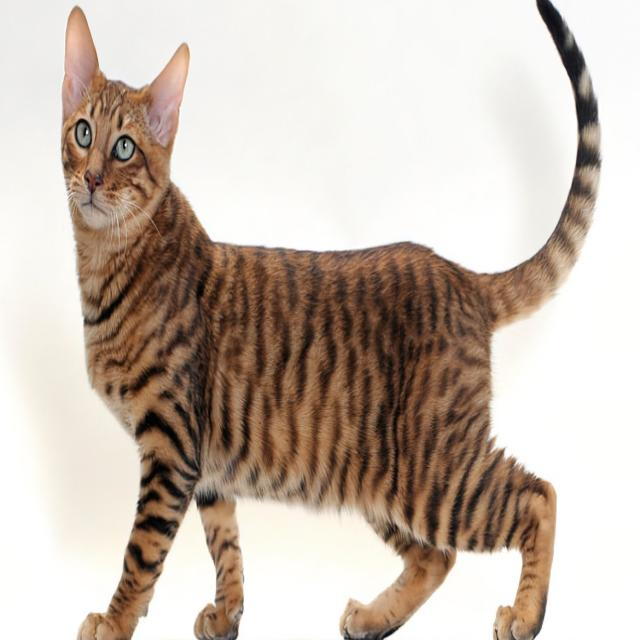Toyger: (58, 0, 604, 640)
